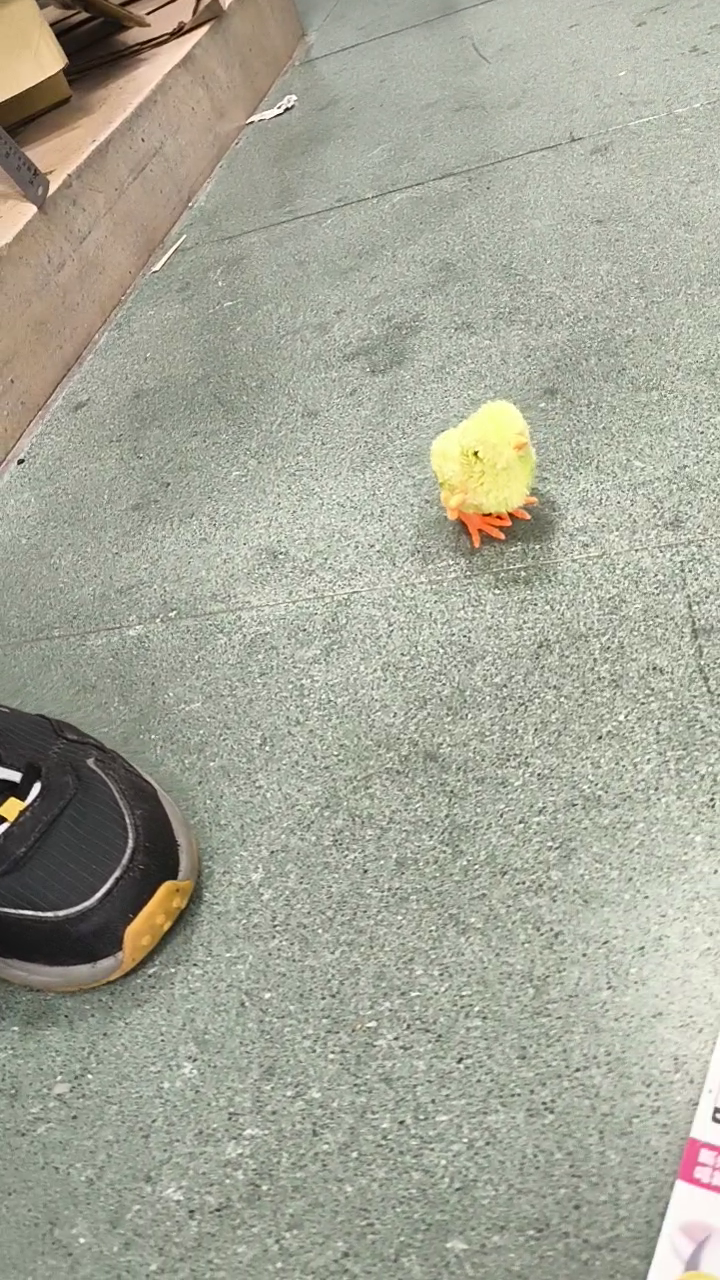yellow chicken: (426, 395, 544, 549)
